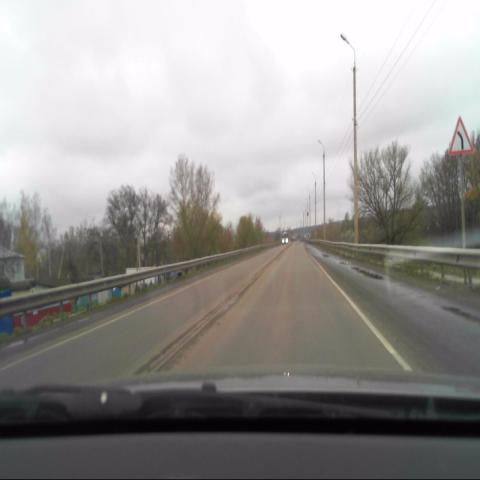1_11_1: (448, 115, 473, 155)
